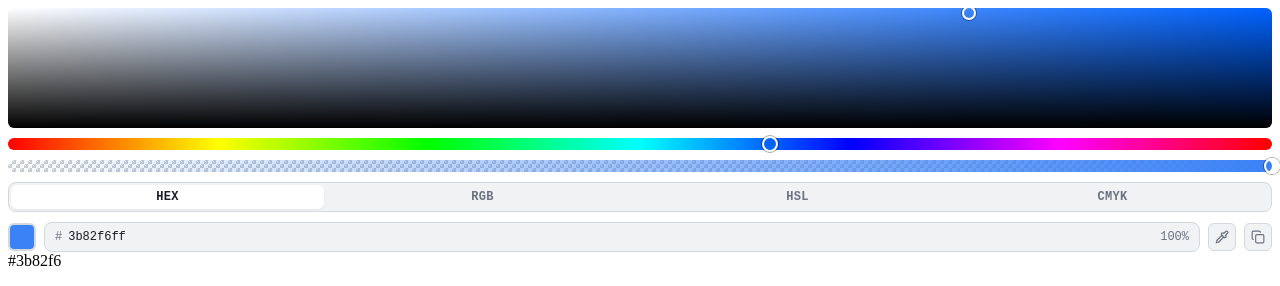
Test: ColorPicker — alpha › expands 3-digit shorthand on blur (alpha on)
The image size is (1280, 286).
Replace the text in the field with placeholder "rrggbbaa" with "f80" at (606, 237), box [66,229,1145,245]
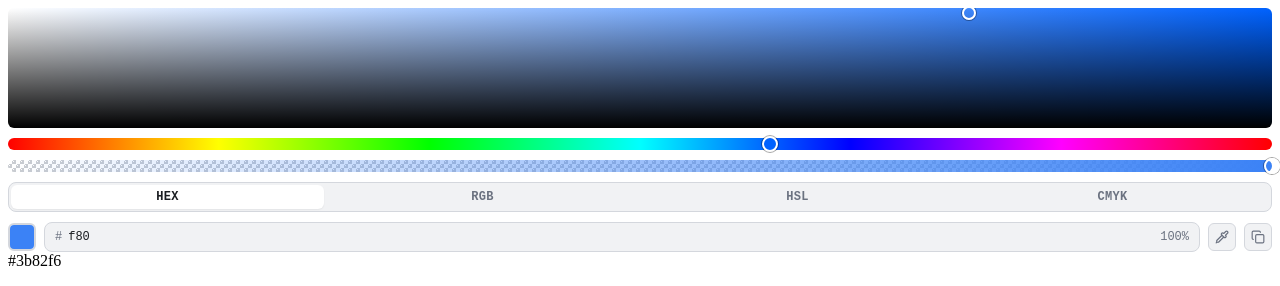
Leave the field with placeholder "rrggbbaa", box [66,229,1145,245]
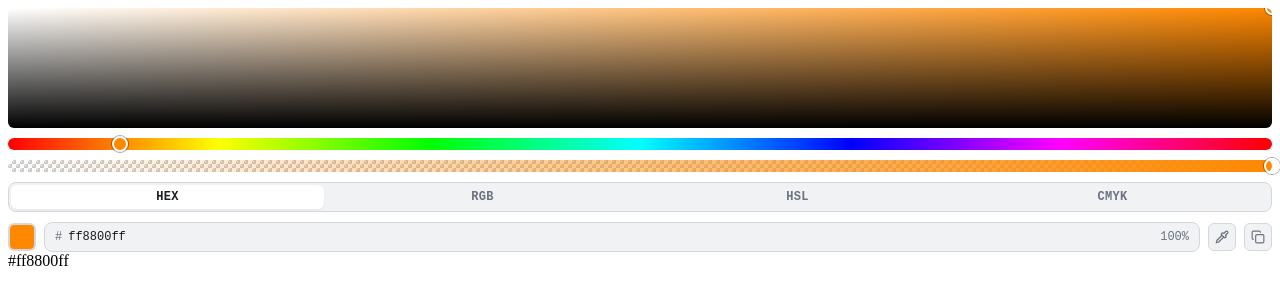
Result: the text with test id "color" reads "#ff8800ff" at [8,252,69,269]
